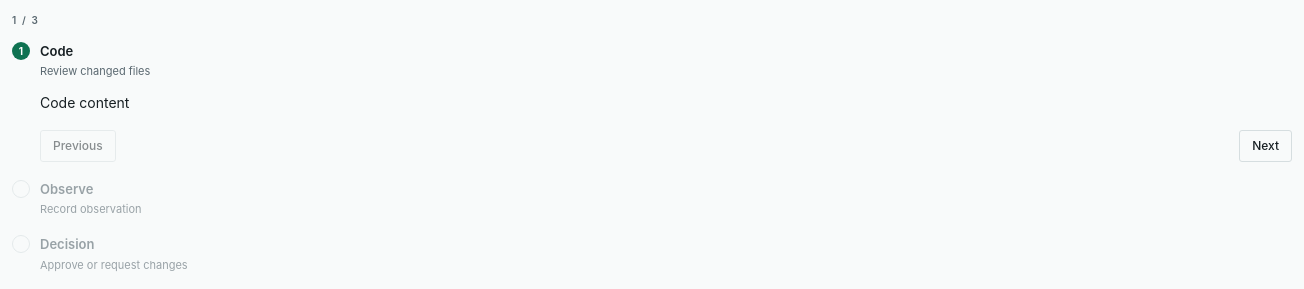
Scenario: VerificationReviewStepper › renders the success check when a non-active stage has evidence
What coordinates should you click on to do the following:
click the button with test id "verification-stepper-next"
I would click on:
 (1266, 146)
Its box is [1239,130,1292,162].
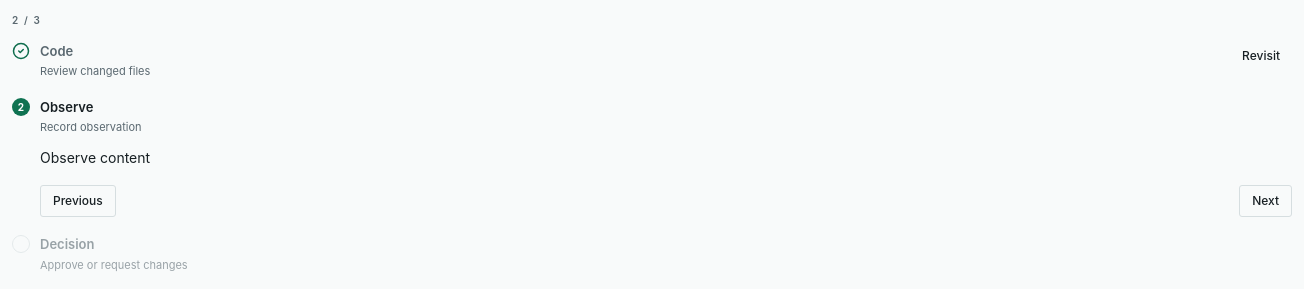
Expected: the icon with test id "verification-stepper-success-code" is shown, [12,42,30,60]
